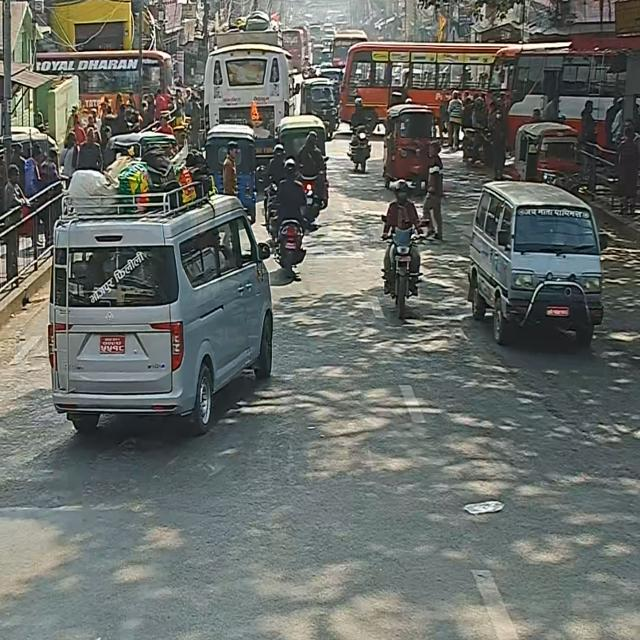license_plate: (86, 279, 133, 373)
